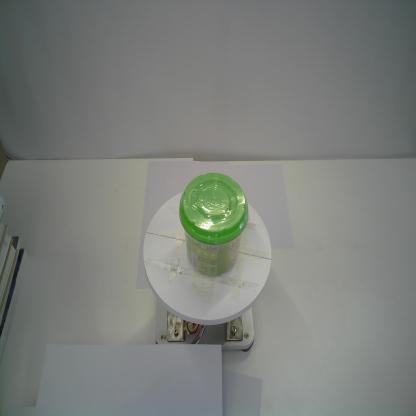Instant Drink: (179, 172, 249, 278)
